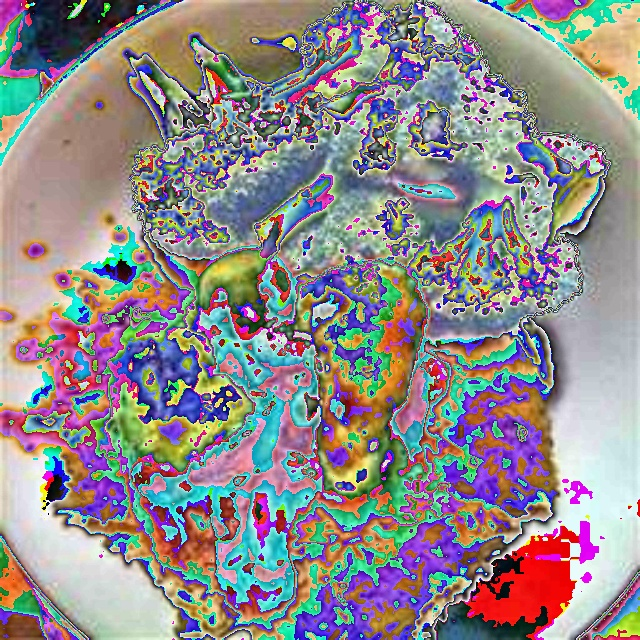background: (0, 0, 613, 640)
